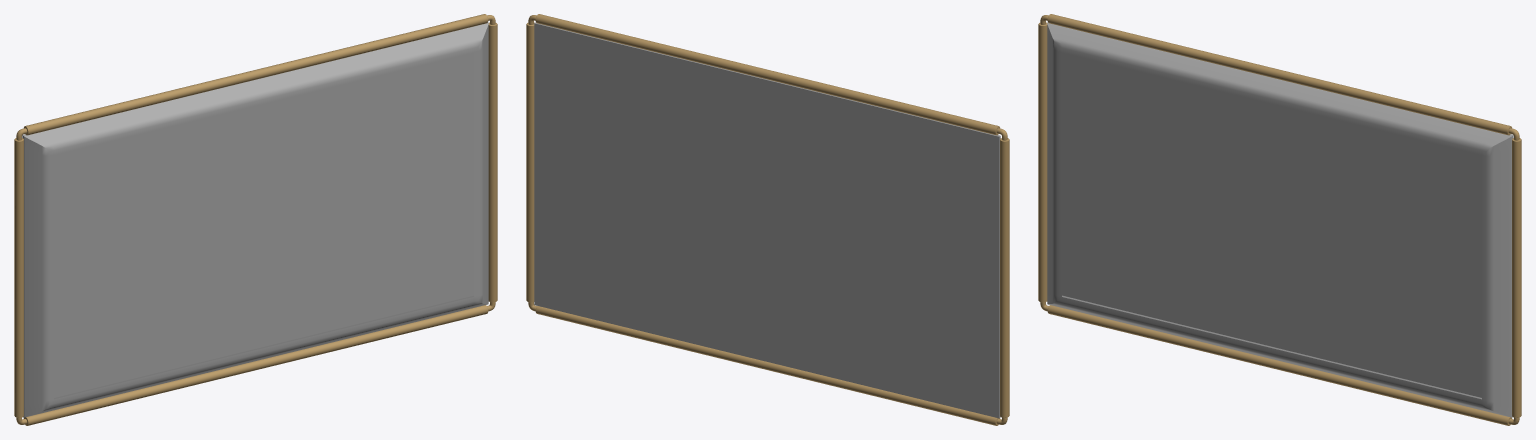
File: PinBoard.fbx
3 renders of one model, left to right at view 1: azimuth 30°, elevation 25°; view 2: azimuth 150°, elevation 25°; view 3: azimuth 330°, elevation 25°, orthographic.
Visible parts, largest first — view 1: Pin_Bosrd; view 2: Pin_Bosrd; view 3: Pin_Bosrd.
Boxes of the visible parts, box(x1,y1,x2,y2) form: Pin_Bosrd: box(14, 14, 497, 425); Pin_Bosrd: box(526, 14, 1009, 425); Pin_Bosrd: box(1038, 14, 1521, 425).
Size of the model in its own units: 479 by 284 by 17.84.
